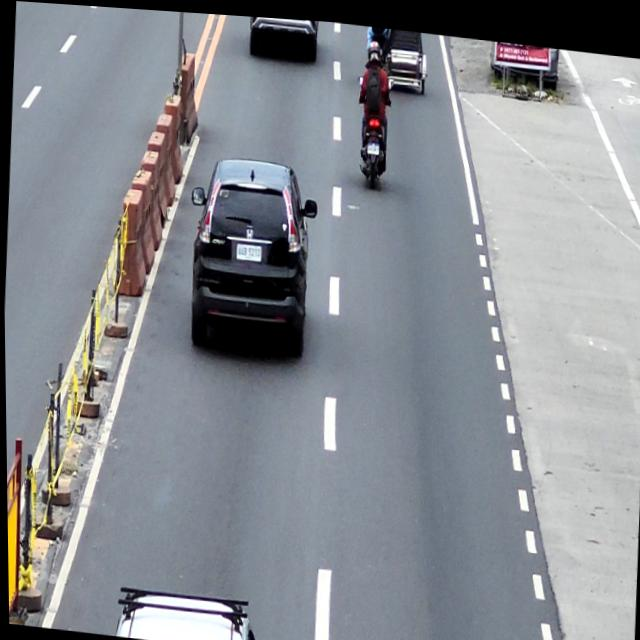Car: (184, 148, 321, 359)
License-Plate: (234, 241, 261, 259), (366, 137, 381, 151)
Motorcycle: (353, 68, 395, 187)
Tricycle: (365, 21, 429, 90)
